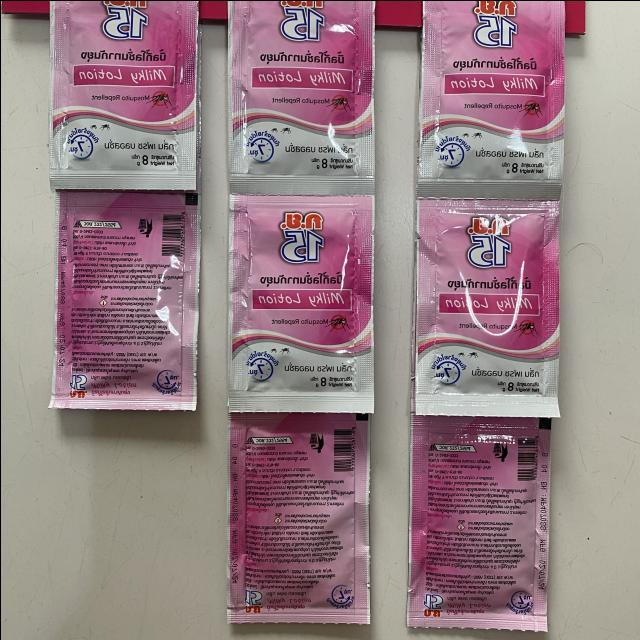plastik: (49, 189, 198, 409), (413, 198, 559, 417), (228, 193, 372, 411), (406, 414, 551, 630), (226, 411, 368, 623), (415, 0, 564, 198), (48, 0, 198, 189), (228, 0, 374, 194)
